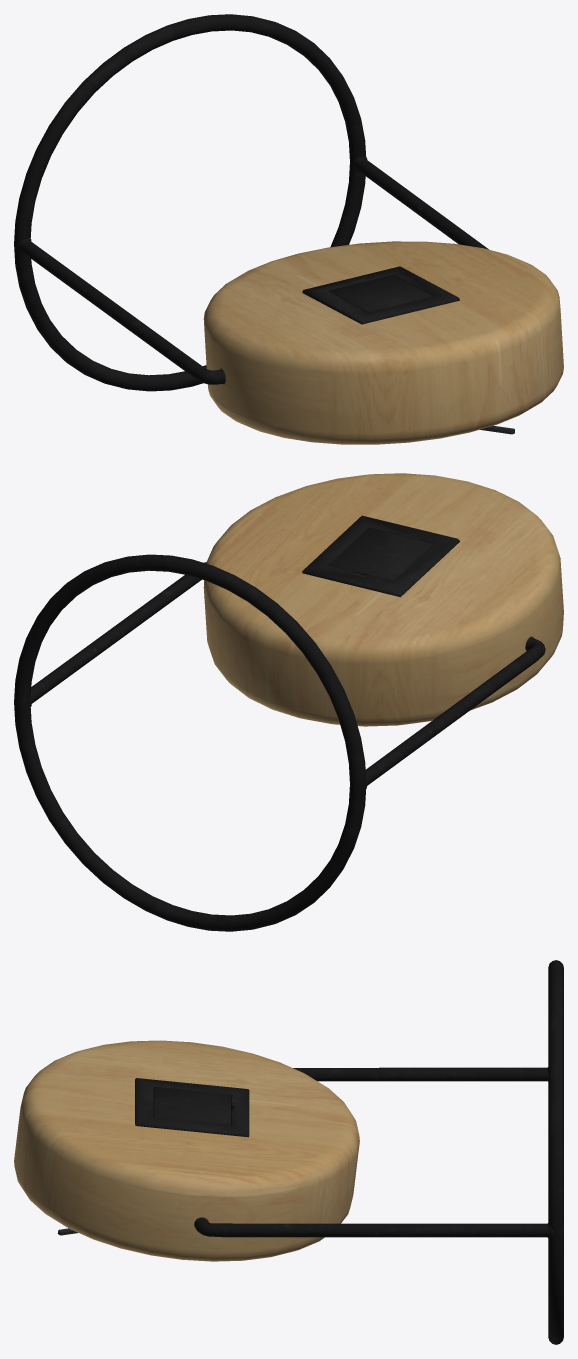
Rendered from clock-opt.glb.
3 renders of one model, top to bottom at view 1: azimuth 30°, elevation 25°; view 2: azimuth 150°, elevation 25°; view 3: azimuth 270°, elevation 25°, orthographic. The views are drawn at different scales.
Parts seen in each view (by area): view 1: WoodenBody, MetalPart_01; view 2: WoodenBody, MetalPart_01; view 3: WoodenBody, MetalPart_01.
Boxes of the visible parts, bbox=[...] form: WoodenBody: bbox=[203, 241, 563, 444]; MetalPart_01: bbox=[14, 14, 514, 434]; WoodenBody: bbox=[203, 473, 563, 726]; MetalPart_01: bbox=[14, 515, 545, 931]; WoodenBody: bbox=[14, 1040, 359, 1261]; MetalPart_01: bbox=[57, 960, 563, 1344].
Size of the model in its own units: 0.2016 by 0.2015 by 0.2874.
Materials: 1 (1 with a texture image).
